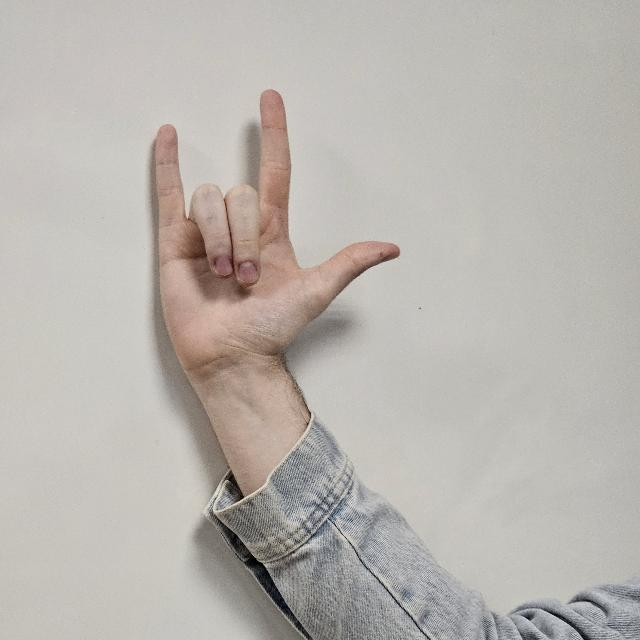Cima: (148, 88, 404, 376)
